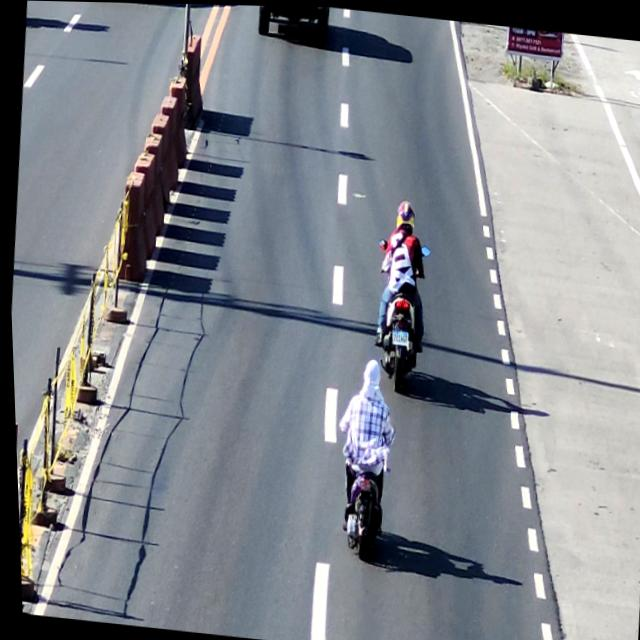Car: (255, 4, 333, 41)
License-Plate: (384, 324, 410, 349)
Motorcycle: (324, 373, 400, 561), (363, 229, 437, 394)
